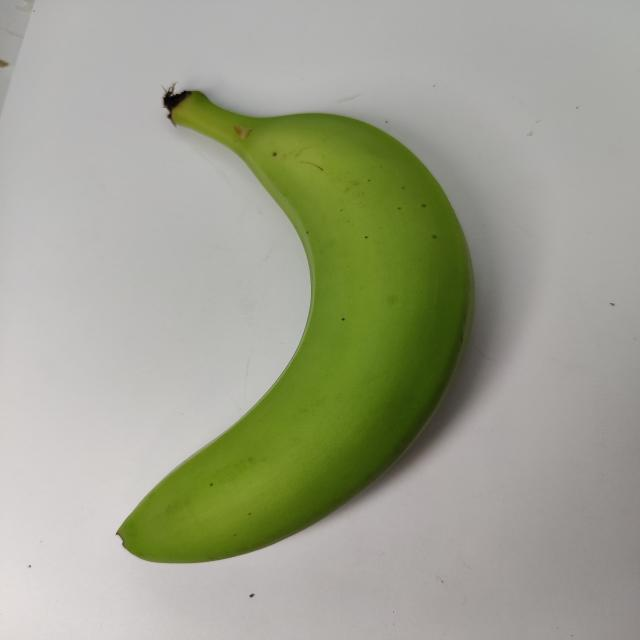raw: (81, 73, 506, 576)
